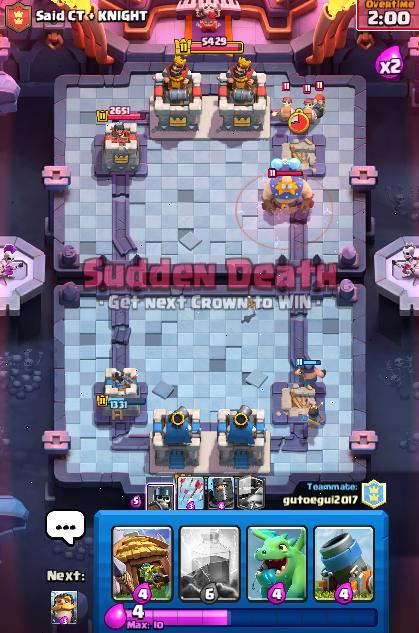EBomber: (313, 93, 325, 118)
EElectroG: (263, 176, 312, 218)
EKingTower: (217, 57, 267, 130), (153, 55, 201, 130)
EWallBreak: (278, 98, 293, 121), (302, 99, 316, 123)
EnemyPrincessTower: (102, 121, 138, 173)
OEx: (294, 359, 323, 386)
OPrincess: (303, 403, 324, 430)
OwnKingTower: (218, 405, 270, 472), (150, 406, 198, 472)
OwnPrincessTower: (95, 369, 146, 423)
TowerDown: (271, 133, 325, 176), (272, 382, 325, 424)
